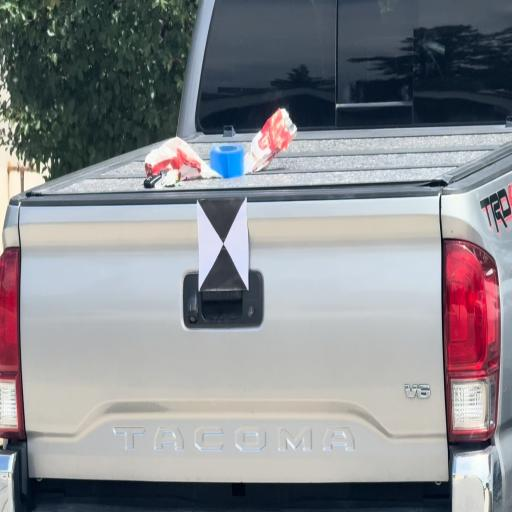target: (198, 200, 248, 290)
